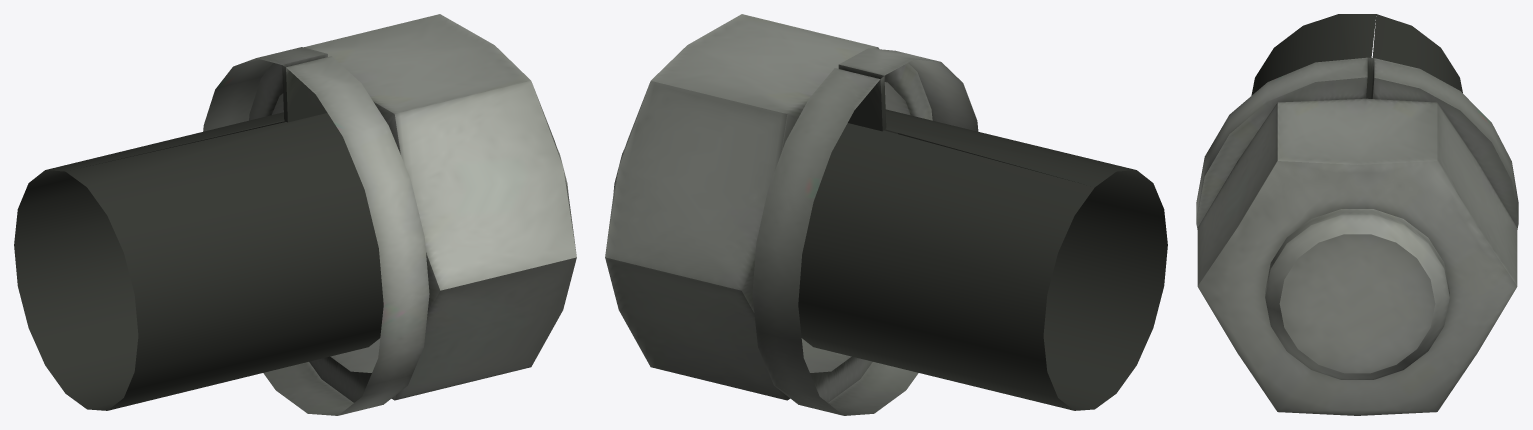
File: bolt.glb
3 views of the same model, side by side, from view 1: azimuth 30°, elevation 25°; view 2: azimuth 150°, elevation 25°; view 3: azimuth 270°, elevation 25° (orthographic). The views are drawn at different scales.
Parts seen in each view (by area): view 1: bolt; view 2: bolt; view 3: bolt.
Boxes of the visible parts, x1=… form: bolt: x1=14, y1=14, x2=576, y2=415; bolt: x1=605, y1=14, x2=1167, y2=415; bolt: x1=1196, y1=14, x2=1518, y2=415.
Size of the model in its own units: 0.0313 by 0.022 by 0.0222.
1 material, 1 textured.
